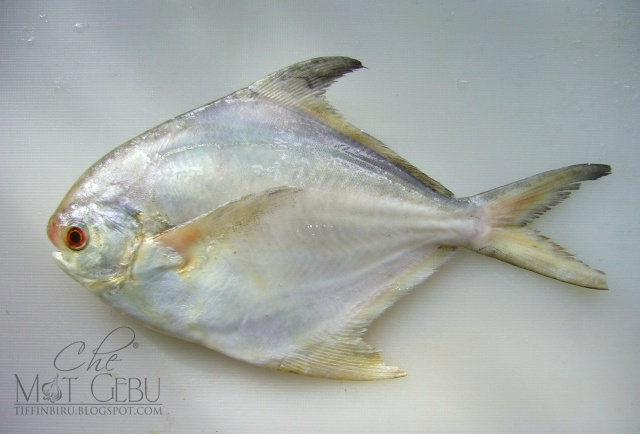Ikan Bawal: (38, 41, 627, 379)
